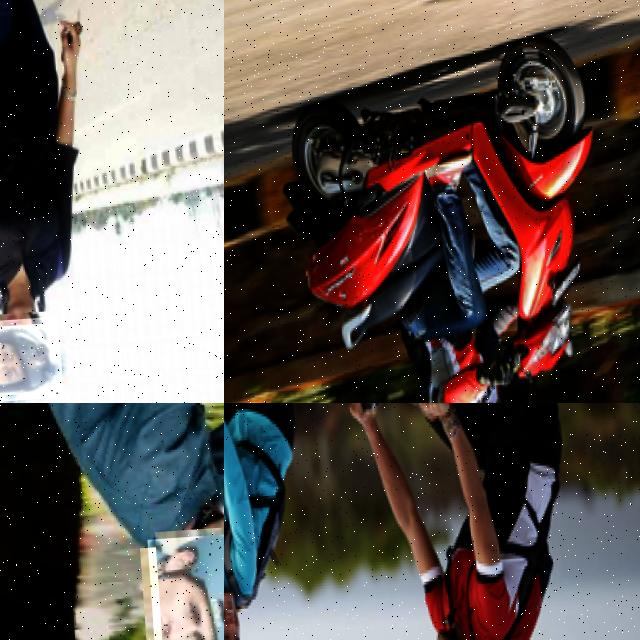helmet: (145, 529, 224, 640), (0, 315, 62, 401)
